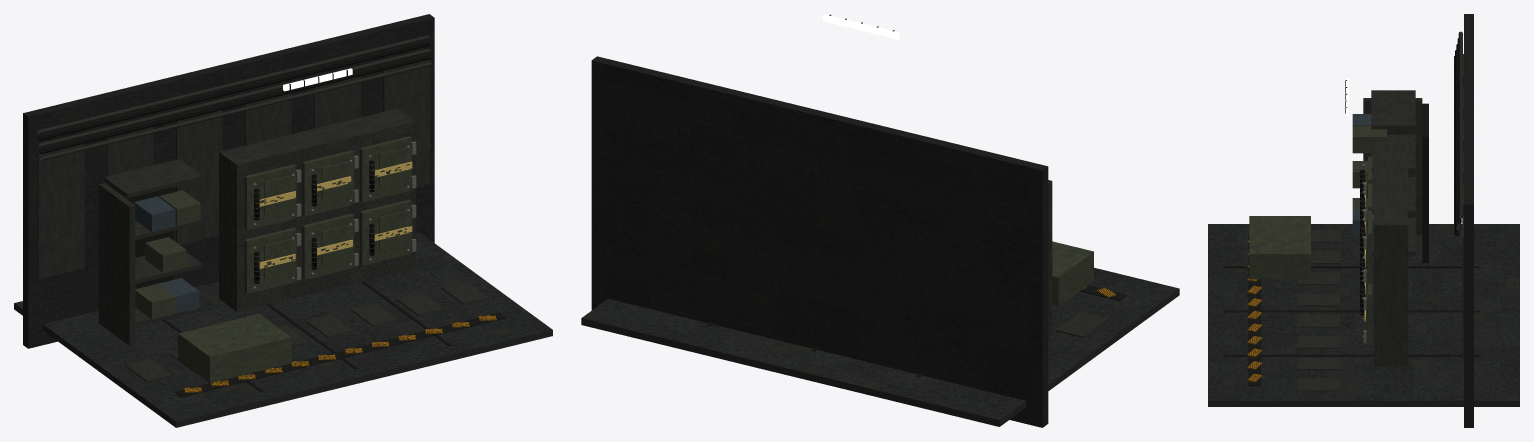
Rendered from GLB_04_supply_room_storage_cabinet.glb.
3 renders of one model, left to right at view 1: azimuth 30°, elevation 25°; view 2: azimuth 150°, elevation 25°; view 3: azimuth 270°, elevation 25°, orthographic. The views are drawn at different scales.
Visible parts, largest first — view 1: supply_room_oily_diamond_floor_base, supply_room_rear_blackened_wall, supply_six_door_cabinet_outer_frame, supply_room_rear_panel_0, supply_foreground_green_crate_hint, supply_left_shelf_vertical, supply_room_rear_panel_2, supply_room_rear_panel_5, supply_left_shelf_board_0.89, supply_room_overhead_pipe_4, supply_room_overhead_pipe_0, supply_room_overhead_pipe_1 (+31 smaller); view 2: supply_room_rear_blackened_wall, supply_room_oily_diamond_floor_base, supply_foreground_green_crate_hint, supply_left_shelf_vertical, supply_room_raised_floor_panel_0, supply_room_overhead_cage_light_warm_cage; view 3: supply_room_oily_diamond_floor_base, supply_six_door_cabinet_outer_frame, supply_room_rear_blackened_wall, supply_foreground_green_crate_hint, supply_left_shelf_board_0.89, supply_left_shelf_vertical, supply_left_shelf_back, supply_room_black_recessed_hazard_strip, supply_room_overhead_pipe_0, supply_shelf_small_crate_4, supply_room_raised_floor_panel_3, supply_room_raised_floor_panel_4 (+19 smaller).
Part boxes in pixels (box(x1,y1,x2,y2)): supply_room_oily_diamond_floor_base: box(14, 232, 552, 427); supply_room_rear_blackened_wall: box(23, 14, 434, 348); supply_six_door_cabinet_outer_frame: box(219, 108, 415, 311); supply_room_rear_panel_0: box(38, 143, 84, 279); supply_foreground_green_crate_hint: box(178, 314, 291, 382); supply_left_shelf_vertical: box(98, 183, 135, 345); supply_room_rear_panel_2: box(176, 110, 222, 244); supply_room_rear_panel_5: box(383, 59, 429, 187); supply_left_shelf_board_0.89: box(104, 159, 202, 197); supply_room_overhead_pipe_4: box(39, 61, 431, 160); supply_room_overhead_pipe_0: box(37, 35, 429, 134); supply_room_overhead_pipe_1: box(37, 42, 429, 140); supply_room_rear_blackened_wall: box(591, 56, 1048, 427); supply_room_oily_diamond_floor_base: box(581, 267, 1179, 426); supply_foreground_green_crate_hint: box(1052, 241, 1093, 306); supply_left_shelf_vertical: box(1048, 180, 1052, 337); supply_room_raised_floor_panel_0: box(1056, 312, 1108, 337); supply_room_overhead_cage_light_warm_cage: box(822, 14, 899, 39); supply_room_oily_diamond_floor_base: box(1208, 224, 1519, 406); supply_six_door_cabinet_outer_frame: box(1374, 141, 1408, 366); supply_room_rear_blackened_wall: box(1464, 14, 1473, 427); supply_foreground_green_crate_hint: box(1249, 216, 1310, 279); supply_left_shelf_board_0.89: box(1371, 90, 1415, 129); supply_left_shelf_vertical: box(1363, 98, 1422, 234); supply_left_shelf_back: box(1422, 103, 1428, 263); supply_room_black_recessed_hazard_strip: box(1248, 233, 1261, 386); supply_room_overhead_pipe_0: box(1458, 31, 1462, 218); supply_shelf_small_crate_4: box(1352, 126, 1386, 153); supply_room_raised_floor_panel_3: box(1297, 293, 1340, 306); supply_room_raised_floor_panel_4: box(1297, 314, 1340, 327).
Bounding box in the file's own units: 5.5 × 3.37 × 3.8.
11 materials, 8 textured.
